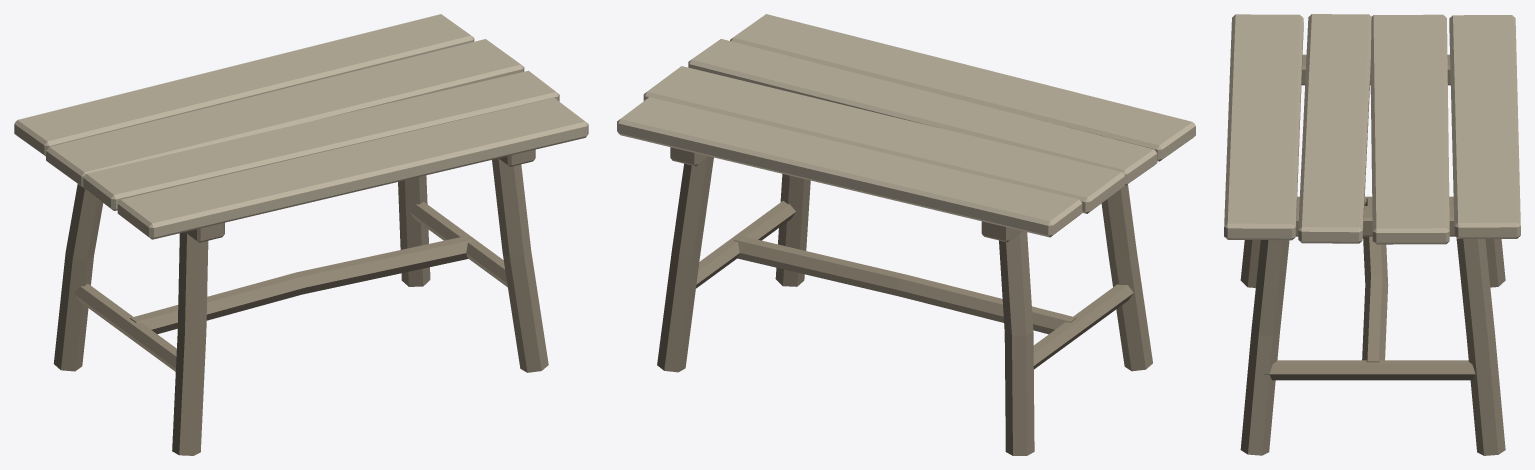
The model's file is driftwood-table.glb.
3 views of the same model, side by side, from view 1: azimuth 30°, elevation 25°; view 2: azimuth 150°, elevation 25°; view 3: azimuth 270°, elevation 25° (orthographic).
Visible parts, largest first — view 1: driftwood-table; view 2: driftwood-table; view 3: driftwood-table.
Part boxes in pixels (left/top/right/bottom): driftwood-table: left=14, top=14, right=588, bottom=455; driftwood-table: left=617, top=14, right=1195, bottom=455; driftwood-table: left=1224, top=14, right=1520, bottom=455.
Size of the model in its own units: 1.43 by 0.7664 by 0.8282.
